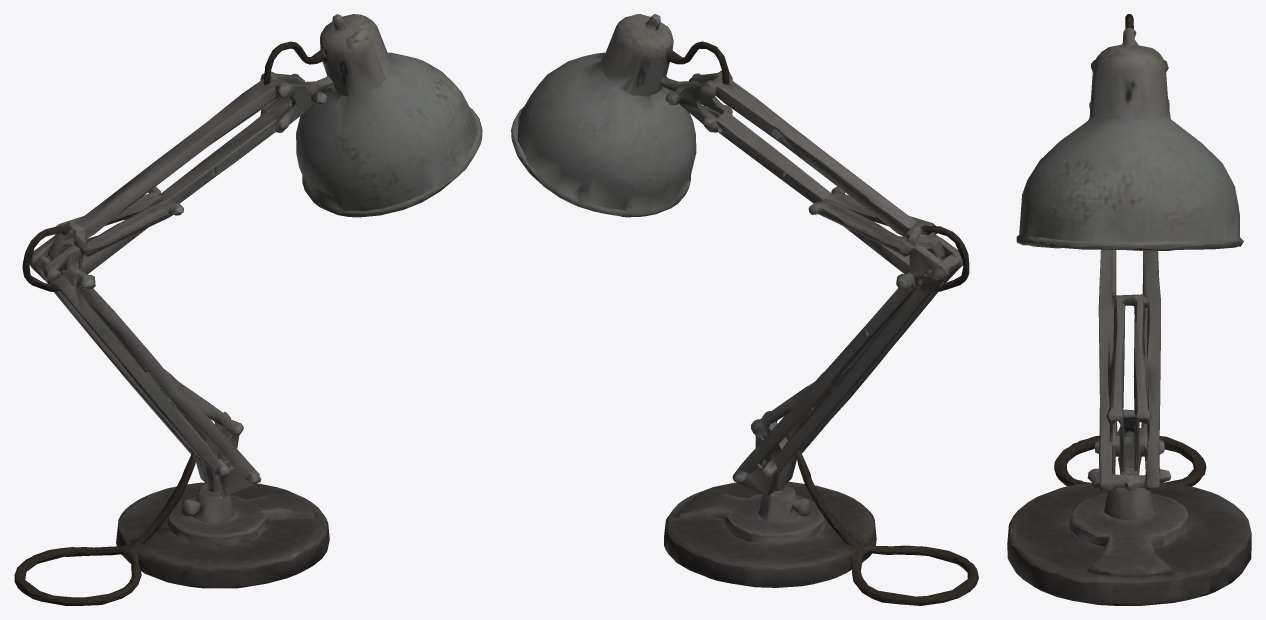
Rendered from lm_lamp.glb.
3 renders of one model, left to right at view 1: azimuth 30°, elevation 25°; view 2: azimuth 150°, elevation 25°; view 3: azimuth 270°, elevation 25°, orthographic. The views are drawn at different scales.
Parts seen in each view (by area): view 1: world; view 2: world; view 3: world.
Boxes of the visible parts, x1,y1,x2,y2 form: world: [14, 14, 482, 605]; world: [511, 14, 978, 605]; world: [1007, 14, 1251, 605].
Bounding box in the file's own units: 33.28 × 36 × 13.41.
1 material, 1 textured.
